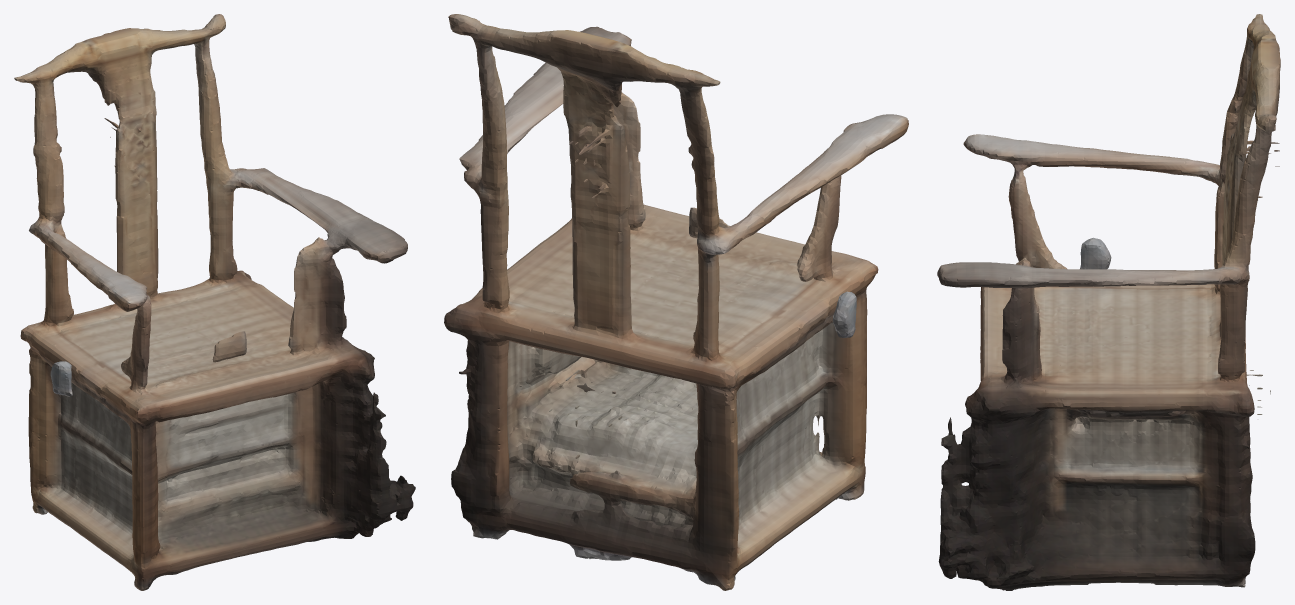
File: instantmesh-smoke.glb
3 renders of one model, left to right at view 1: azimuth 30°, elevation 25°; view 2: azimuth 150°, elevation 25°; view 3: azimuth 270°, elevation 25°, orthographic. The views are drawn at different scales.
Visible parts, largest first — view 1: geometry_0; view 2: geometry_0; view 3: geometry_0.
Boxes of the visible parts, x1,y1,x2,y2 form: geometry_0: [14, 14, 415, 590]; geometry_0: [444, 14, 908, 590]; geometry_0: [937, 14, 1280, 590].
Bounding box in the file's own units: 1.39 × 1.98 × 1.28.
